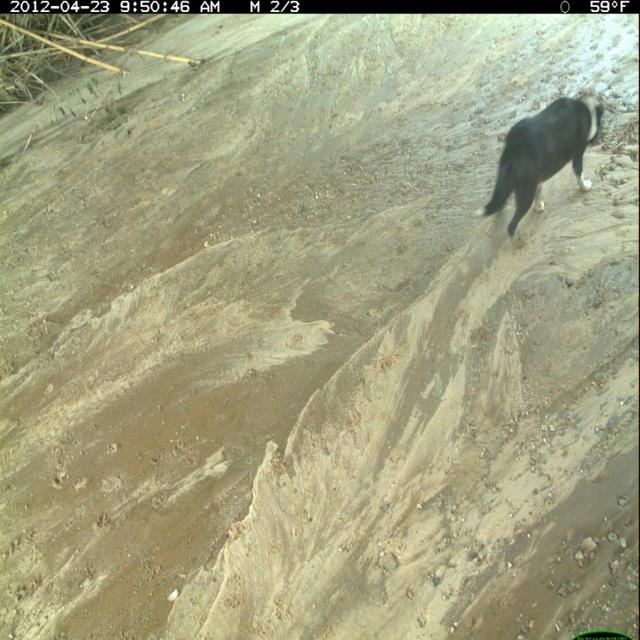dog: (470, 92, 609, 256)
